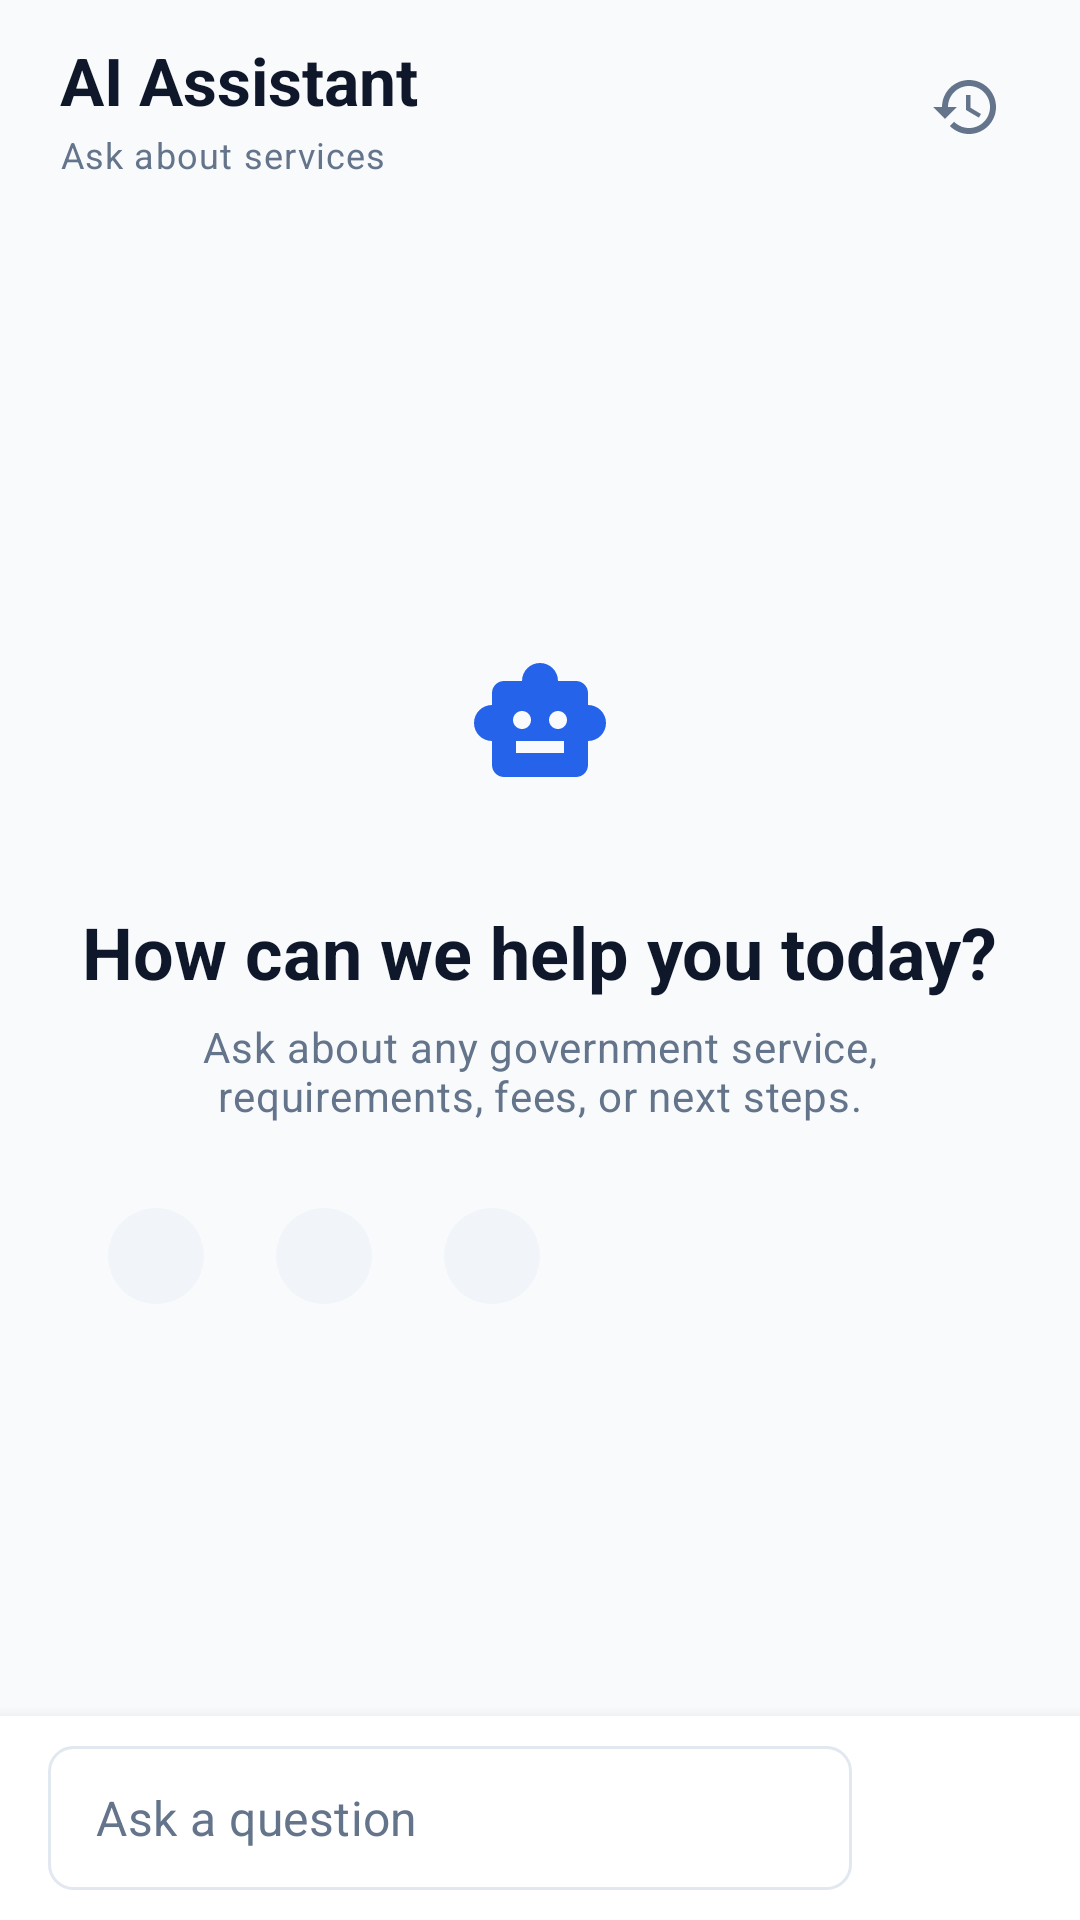

Where icons sit on this 1080px x 1920px app screen, as box(x1, y1, x2, y2):
EasyGov Assistant: box(474, 663, 606, 777)
History: box(933, 80, 996, 134)
